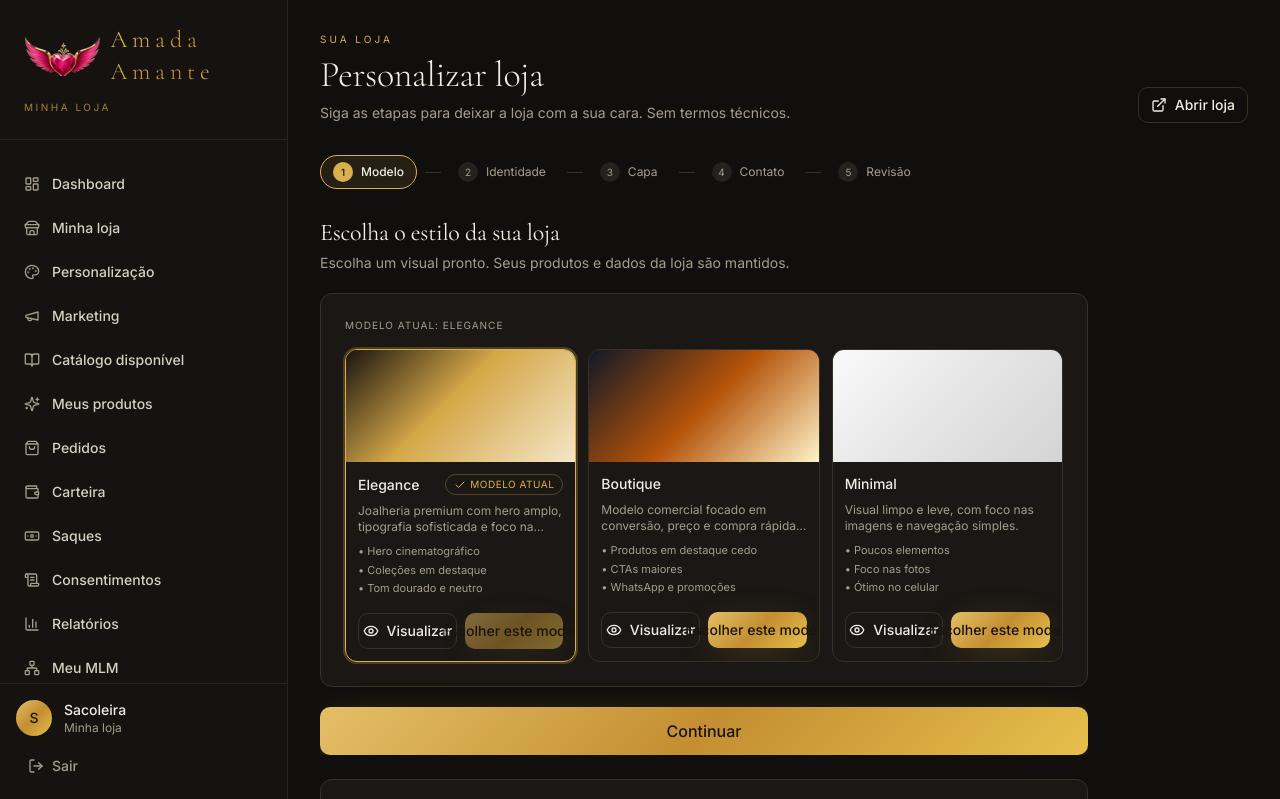
Scenario: customization wizard › preserva nome ao voltar da identidade
The image size is (1280, 799).
Click the button with test id "customization-continue".
click(704, 730)  # box top-left (320, 706), bottom-right (1088, 754)
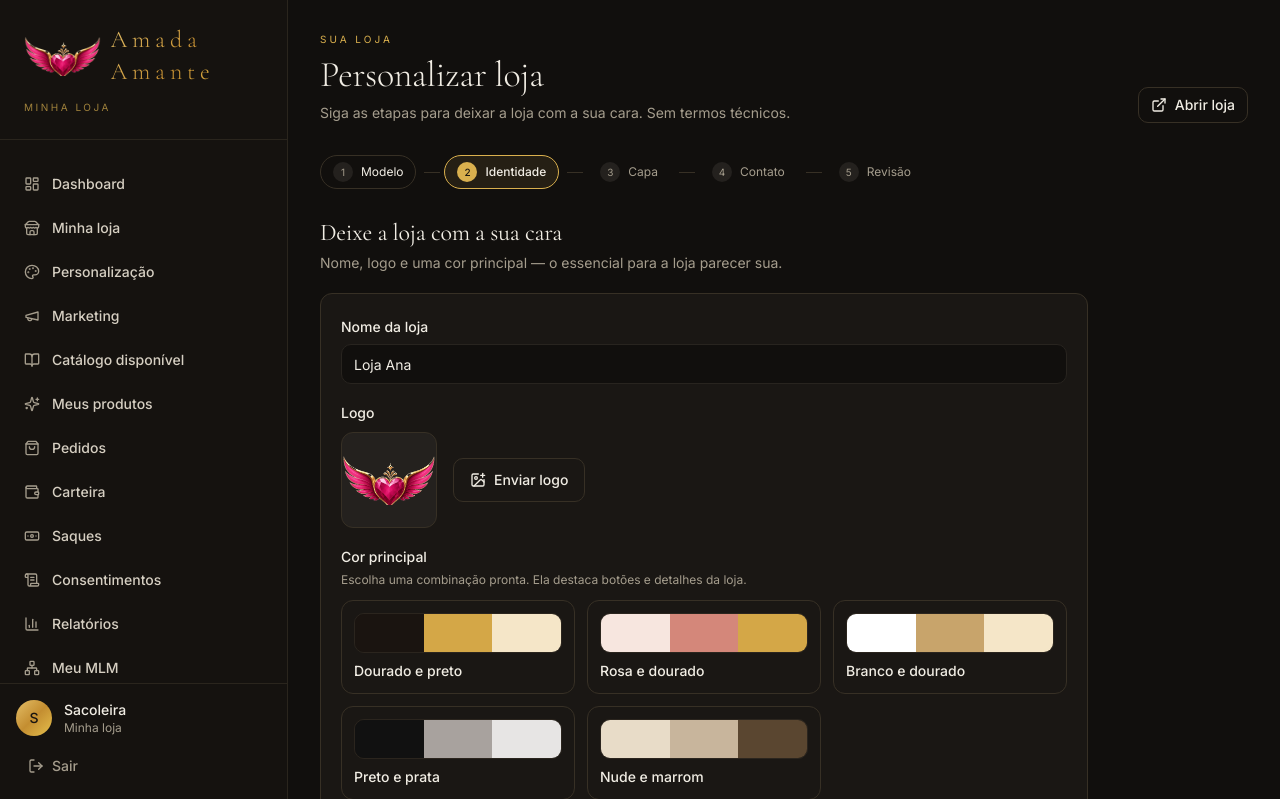
Replace the text in the field with test id "customization-store-name" with "Joias da Ana" at (704, 364), box top-left (341, 344), bottom-right (1067, 384)
(page scrolled)
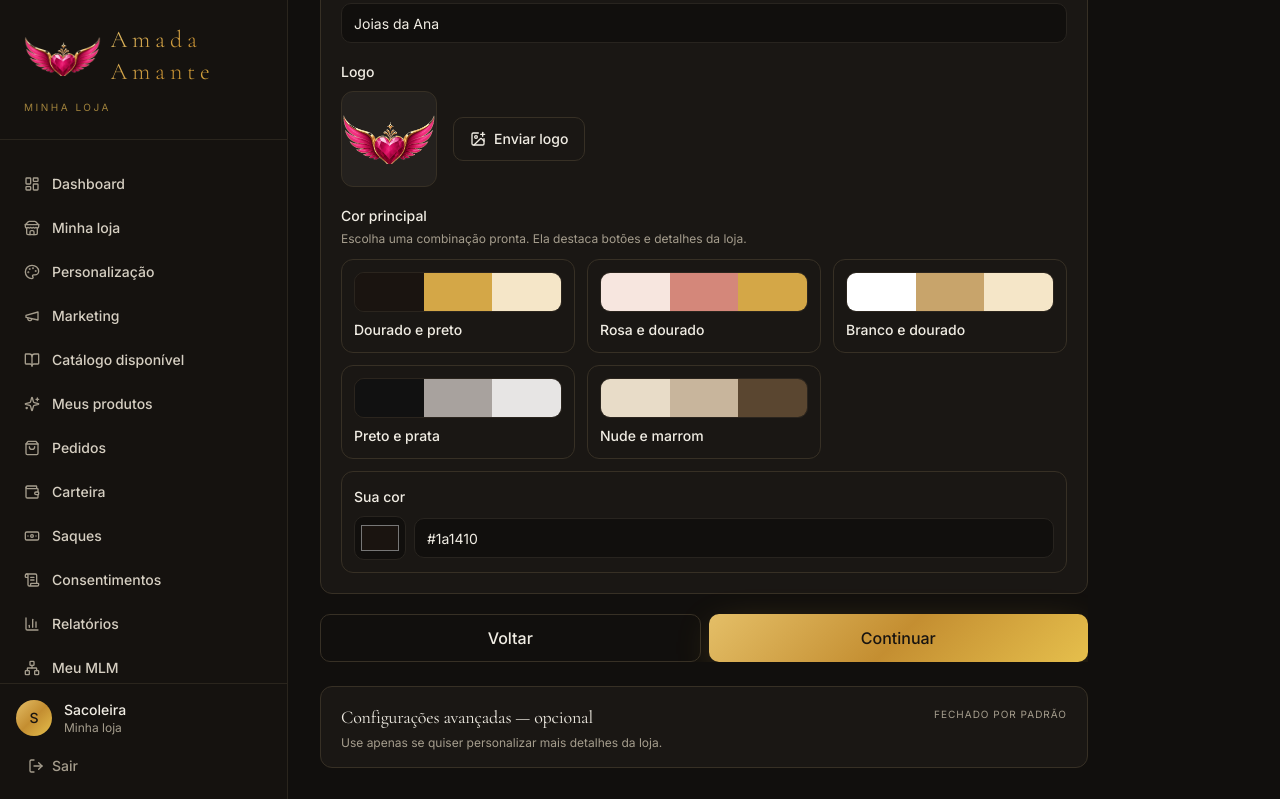
Click the button with test id "customization-continue".
click(898, 638)  # box top-left (708, 614), bottom-right (1088, 662)
(page scrolled)
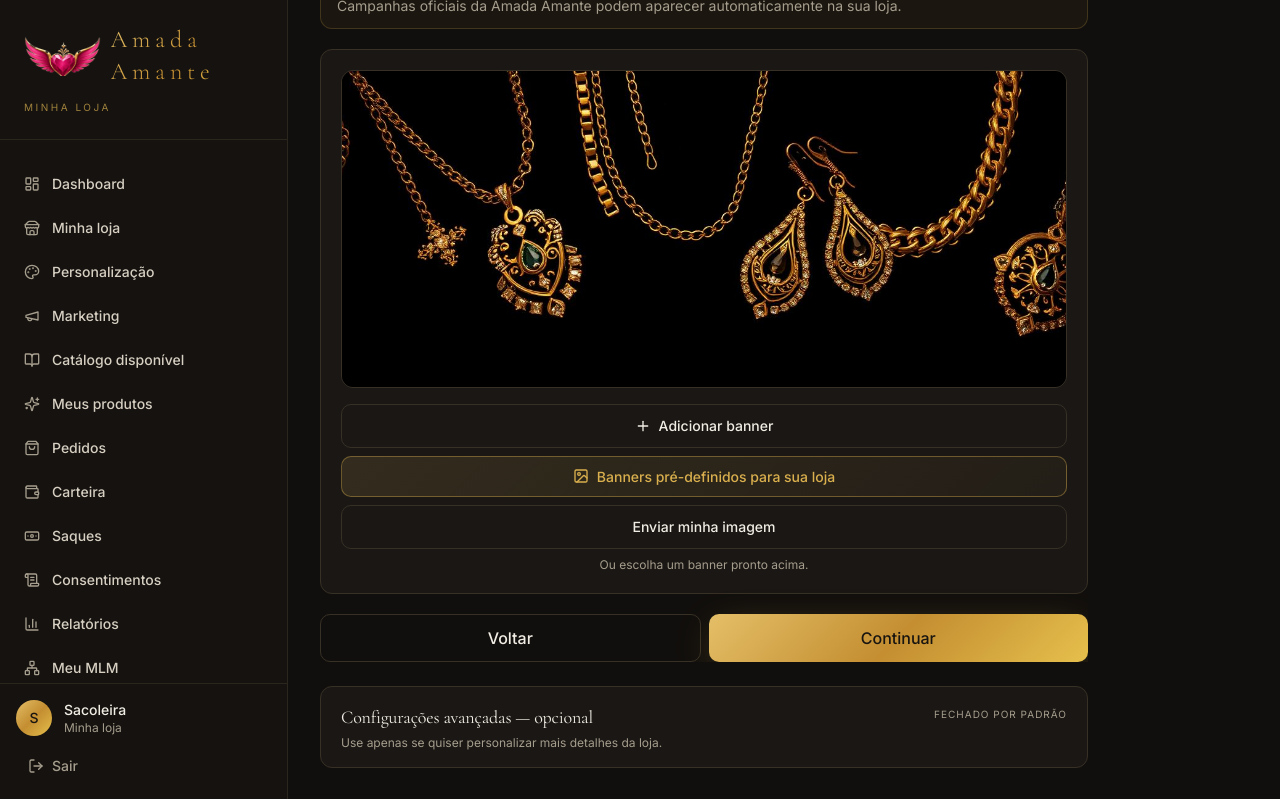
Click the button "Voltar".
click(510, 638)  # box top-left (320, 614), bottom-right (700, 662)
(page scrolled)
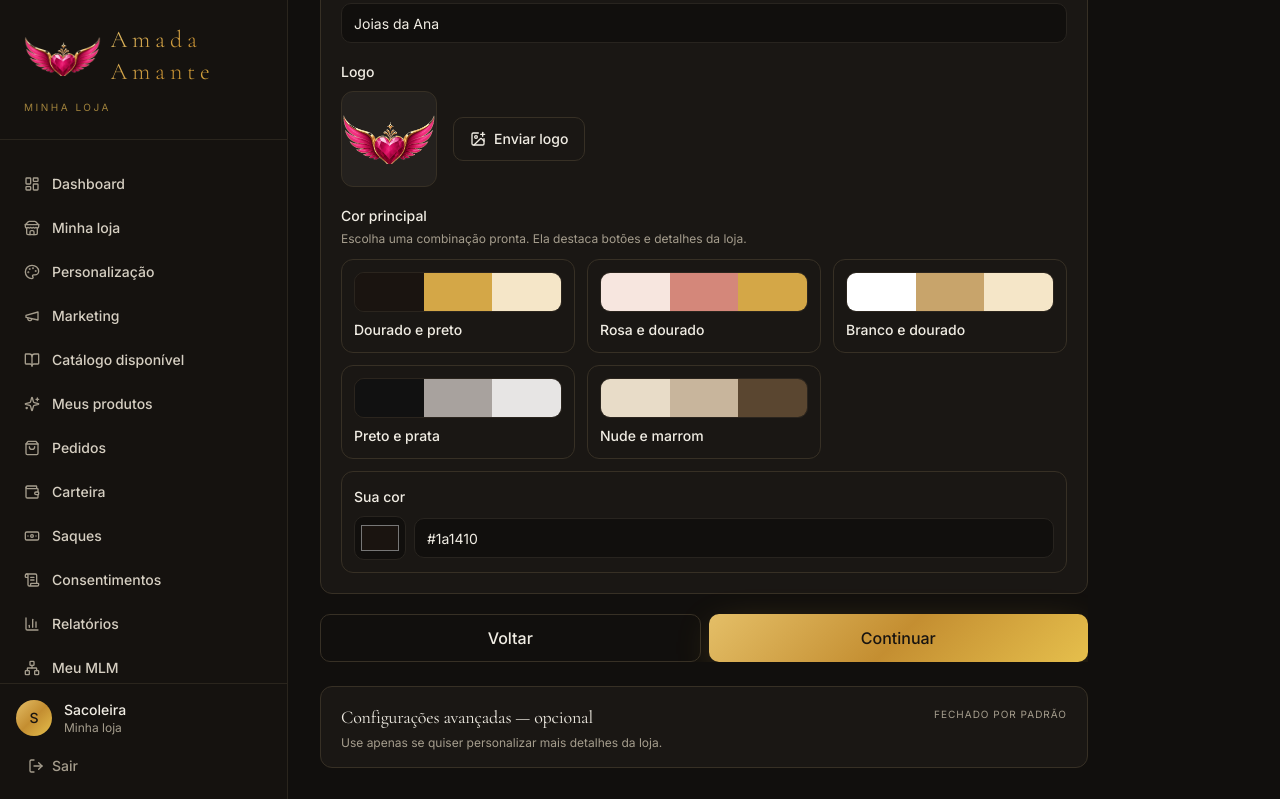
Check: the field with test id "customization-store-name" holds "Joias da Ana", box top-left (341, 3), bottom-right (1067, 43)
